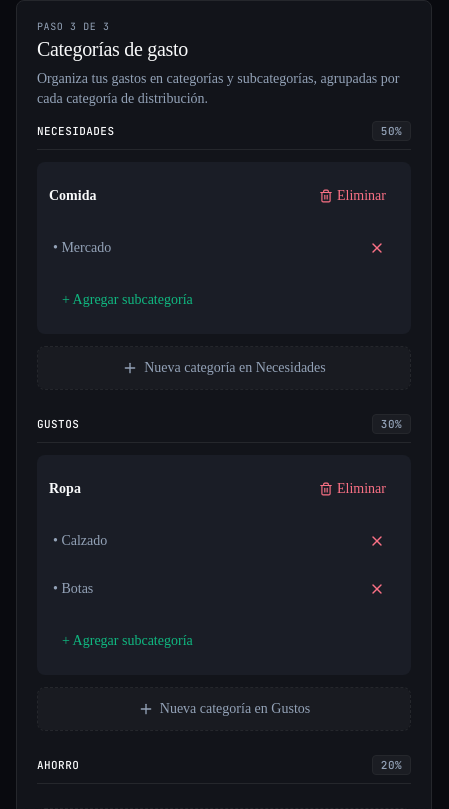
Test case: OnboardingStep3 — transient messages (FR-020, FR-021) › hides the notice as soon as another category or subcategory action starts
This screenshot has width=449, height=809.
Click the button named "Eliminar subcategoría Mercado" at (377, 248), box [355,226,399,270]
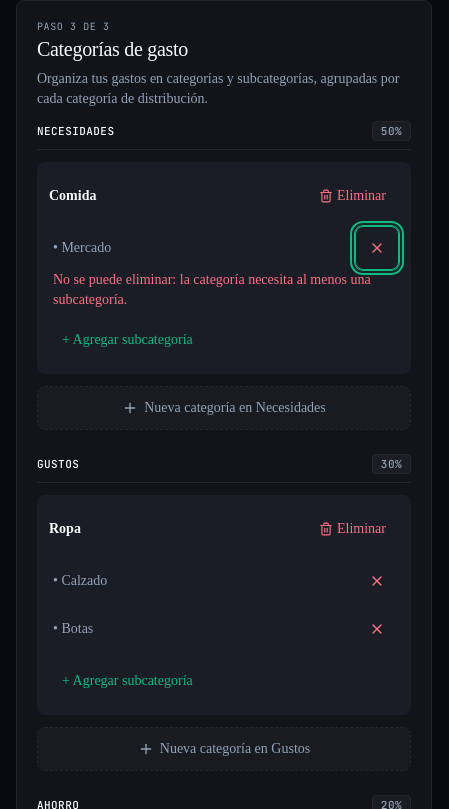
Expected: the message "No se puede eliminar: la categoría necesita al menos una subcategoría." is shown, [53,270,399,310]
Click the button named "Eliminar subcategoría Botas" at (377, 629), box [355,607,399,651]
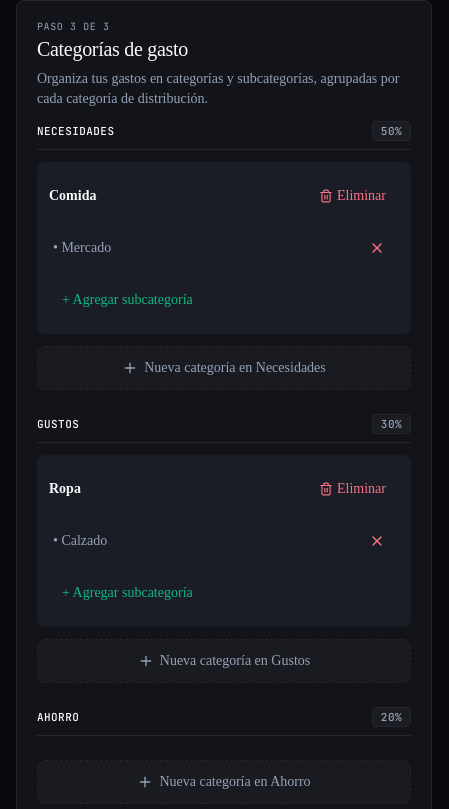
Expected: the text "Botas" is gone
Expected: the message "No se puede eliminar: la categoría necesita al menos una subcategoría." is gone
